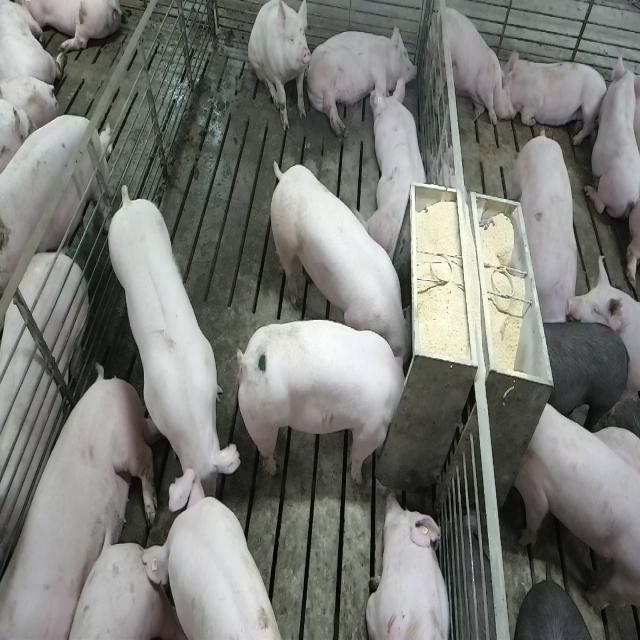Feeding: (264, 159, 412, 364), (232, 318, 408, 484)
Lateral_lying: (4, 367, 159, 640), (304, 21, 416, 138)
Sitting: (248, 2, 312, 134)
Standing: (108, 184, 242, 520), (0, 243, 90, 577), (515, 396, 638, 618), (0, 110, 110, 309), (139, 490, 284, 640), (512, 123, 582, 328), (432, 1, 514, 137), (542, 319, 632, 426)
Sternal_lying: (366, 490, 453, 640), (367, 74, 431, 259), (504, 49, 607, 144), (584, 48, 637, 222)
